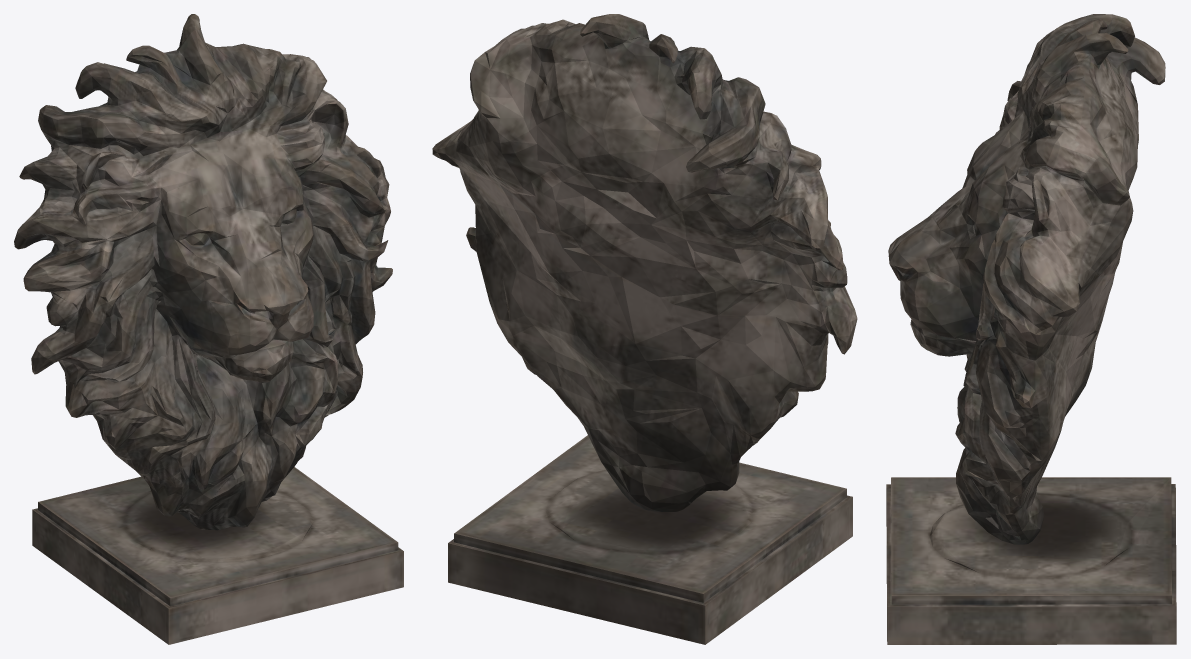
File: lion_head.glb
The picture shows the model from 3 angles, left to right: view 1: azimuth 30°, elevation 25°; view 2: azimuth 150°, elevation 25°; view 3: azimuth 270°, elevation 25°; orthographic projection. The views are drawn at different scales.
Parts seen in each view (by area): view 1: lion_head; view 2: lion_head; view 3: lion_head.
Part boxes in pixels (left/top/right/bottom): lion_head: left=14, top=14, right=403, bottom=644; lion_head: left=432, top=14, right=857, bottom=644; lion_head: left=886, top=14, right=1176, bottom=644.
Size of the model in its own units: 0.3198 by 0.4358 by 0.2066.
Materials: 1 (1 with a texture image).
